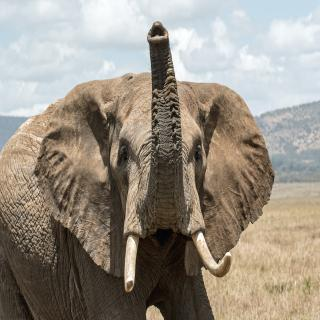Elephant: (0, 18, 279, 320)
